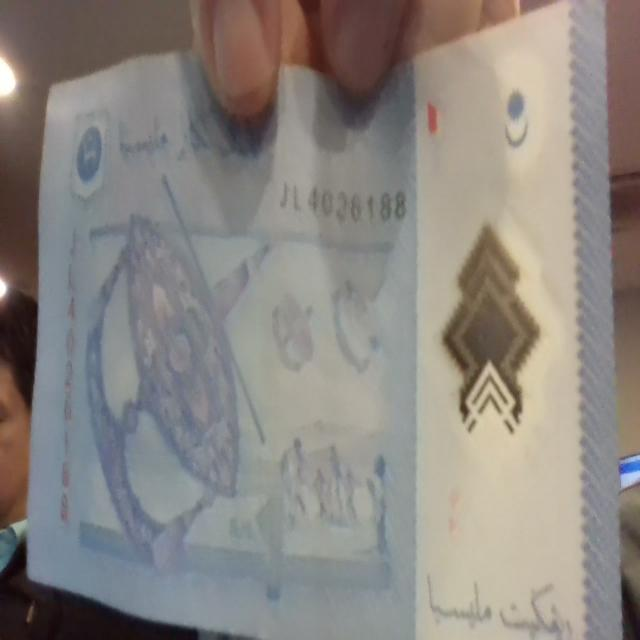1 Ringgit: (29, 52, 608, 587)
